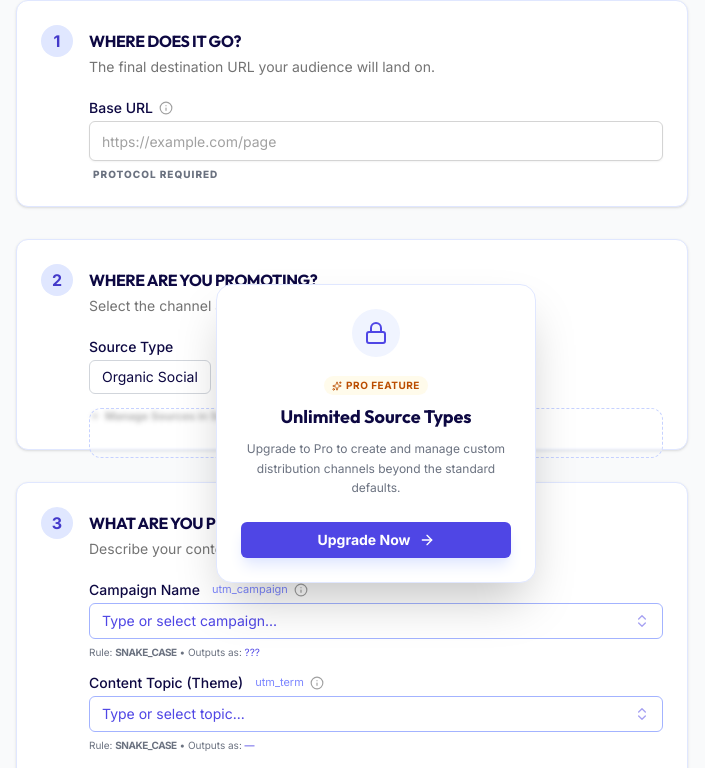
Test: UtmGeneratorForm › shows platform selector after selecting source type
Click the radio button labelled "Organic Social" at (150, 377), box top-left (89, 360), bottom-right (211, 394)
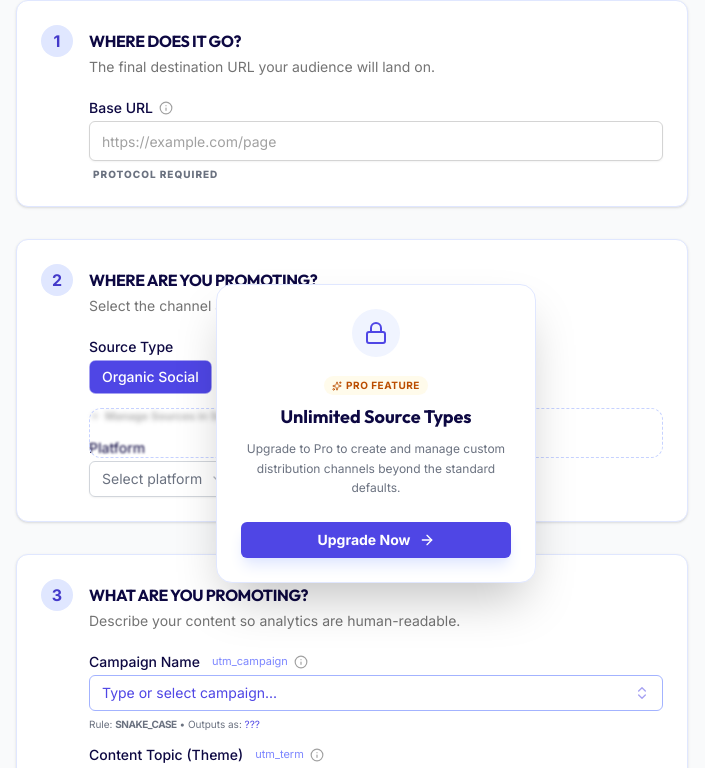
Now the dropdown labelled "platform" is shown, box top-left (89, 460), bottom-right (239, 496)
